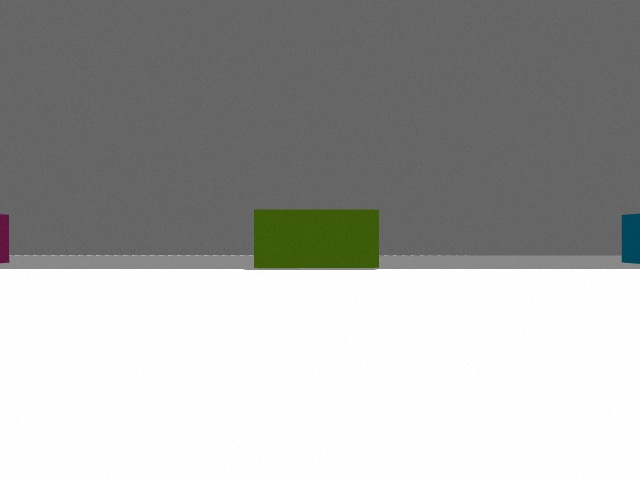blue_drop_zone: (622, 214, 640, 264)
green_drop_zone: (254, 209, 379, 268)
red_drop_zone: (0, 214, 9, 263)
